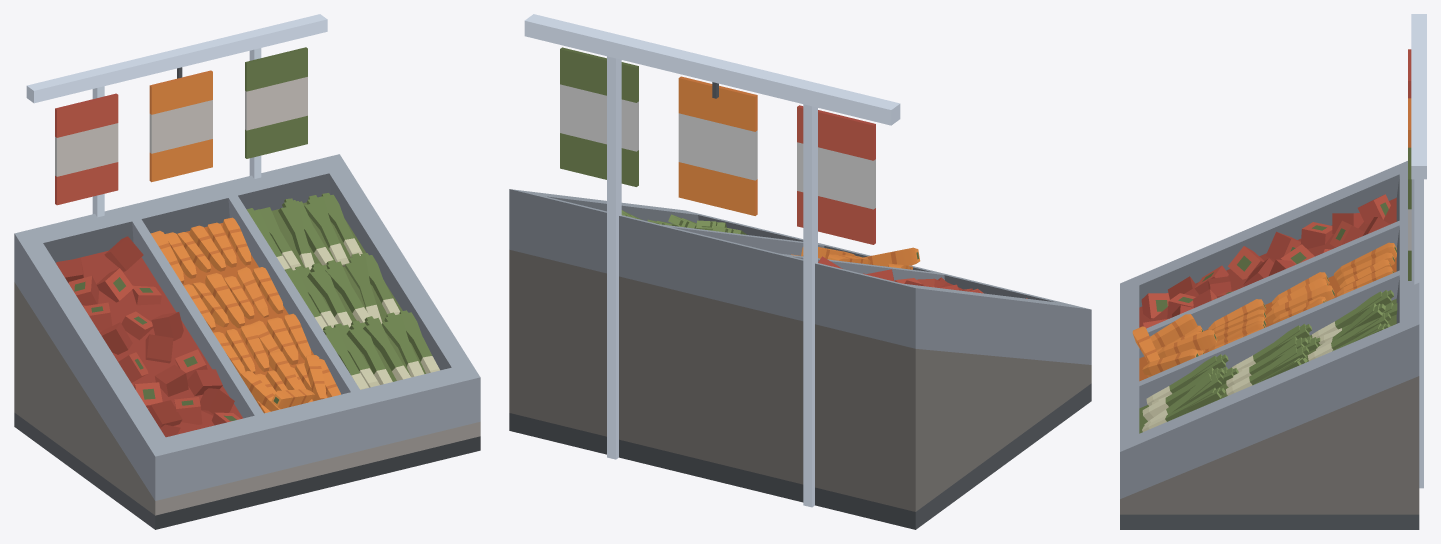
Rendered from ProduceSection3.glb.
The picture shows the model from 3 angles, left to right: view 1: azimuth 30°, elevation 25°; view 2: azimuth 150°, elevation 25°; view 3: azimuth 270°, elevation 25°; orthographic projection. The views are drawn at different scales.
Visible parts, largest first — view 1: SI_Prop_ProduceSection_03; view 2: SI_Prop_ProduceSection_03; view 3: SI_Prop_ProduceSection_03.
Boxes of the visible parts, x1,y1,x2,y2 form: SI_Prop_ProduceSection_03: [14, 14, 480, 529]; SI_Prop_ProduceSection_03: [509, 14, 1091, 529]; SI_Prop_ProduceSection_03: [1120, 14, 1426, 529].
Size of the model in its own units: 0.04 by 0.0393 by 0.0308.
1 material, 1 textured.
